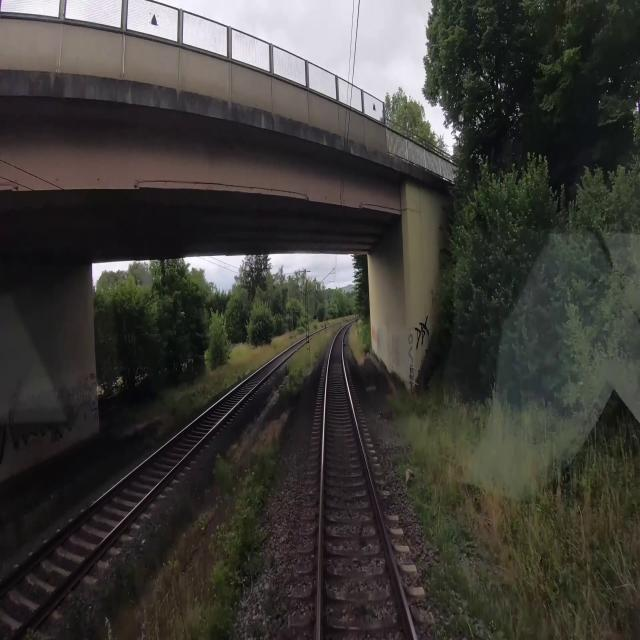Plant: (65, 416, 286, 639), (394, 445, 512, 639), (279, 325, 337, 401), (264, 585, 277, 615), (267, 550, 280, 576), (250, 619, 266, 639), (26, 625, 41, 639)
